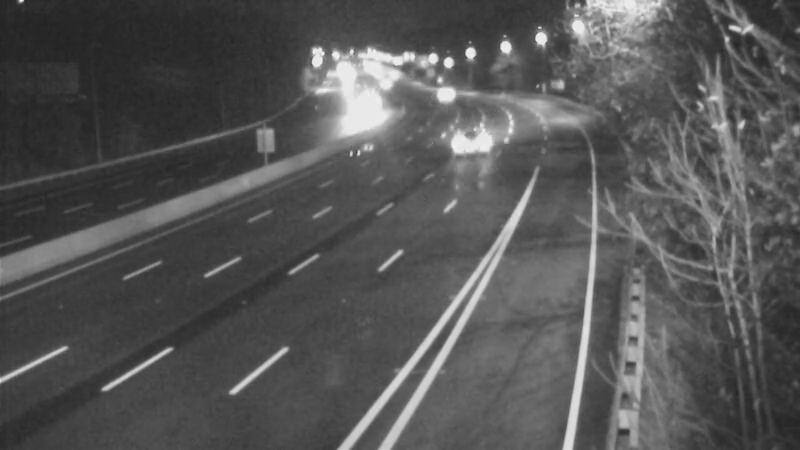vehicle: (417, 70, 467, 120), (442, 120, 492, 170), (334, 90, 384, 140)
